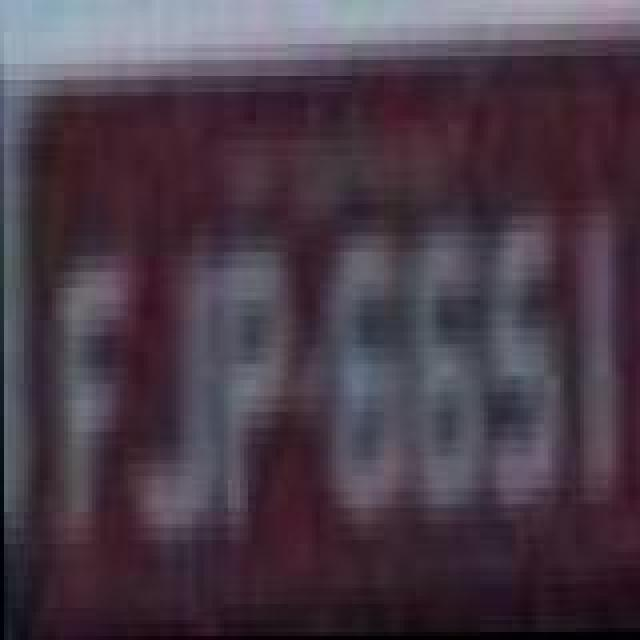1: (572, 202, 624, 522)
5: (484, 218, 560, 522)
6: (324, 228, 400, 532), (404, 218, 480, 522)
F: (54, 254, 126, 542)
J: (128, 254, 220, 542)
P: (220, 246, 296, 550)
